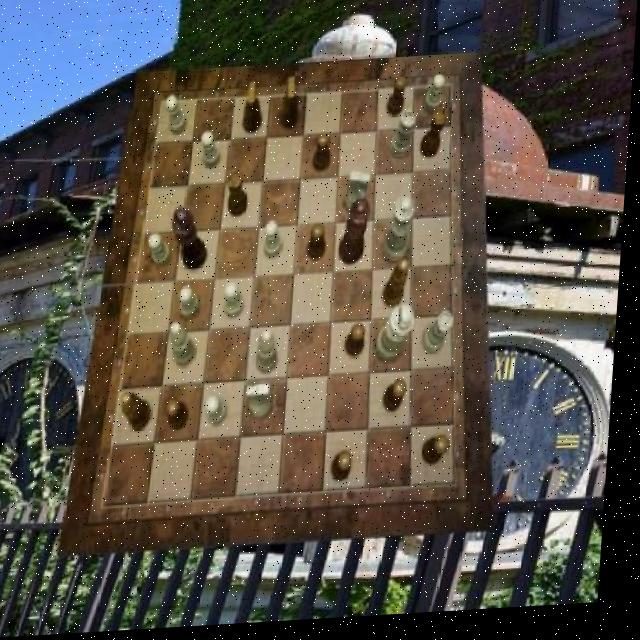bishop: (126, 393, 159, 435), (387, 266, 414, 313)
black-bishop: (173, 208, 214, 274)
black-king: (282, 79, 304, 133), (245, 84, 266, 136)
black-knight: (428, 442, 457, 471), (388, 385, 413, 418), (388, 81, 408, 122), (349, 326, 371, 361), (171, 400, 195, 432), (316, 136, 335, 176), (338, 456, 360, 488), (310, 229, 329, 265)
black-pawn: (342, 203, 374, 270)
black-queen: (423, 113, 450, 163), (229, 174, 253, 221)
black-rook: (174, 322, 203, 369), (261, 333, 286, 378)
white-bishop: (380, 309, 420, 368)
white-king: (348, 174, 375, 218), (251, 386, 279, 423)
white-knight: (166, 97, 191, 138), (150, 234, 176, 269), (425, 79, 446, 118), (229, 285, 250, 322), (202, 134, 223, 171), (267, 225, 287, 261), (183, 288, 204, 321), (211, 398, 233, 428)
white-pawn: (387, 200, 420, 267)
white-queen: (428, 318, 459, 361), (394, 114, 419, 162)
